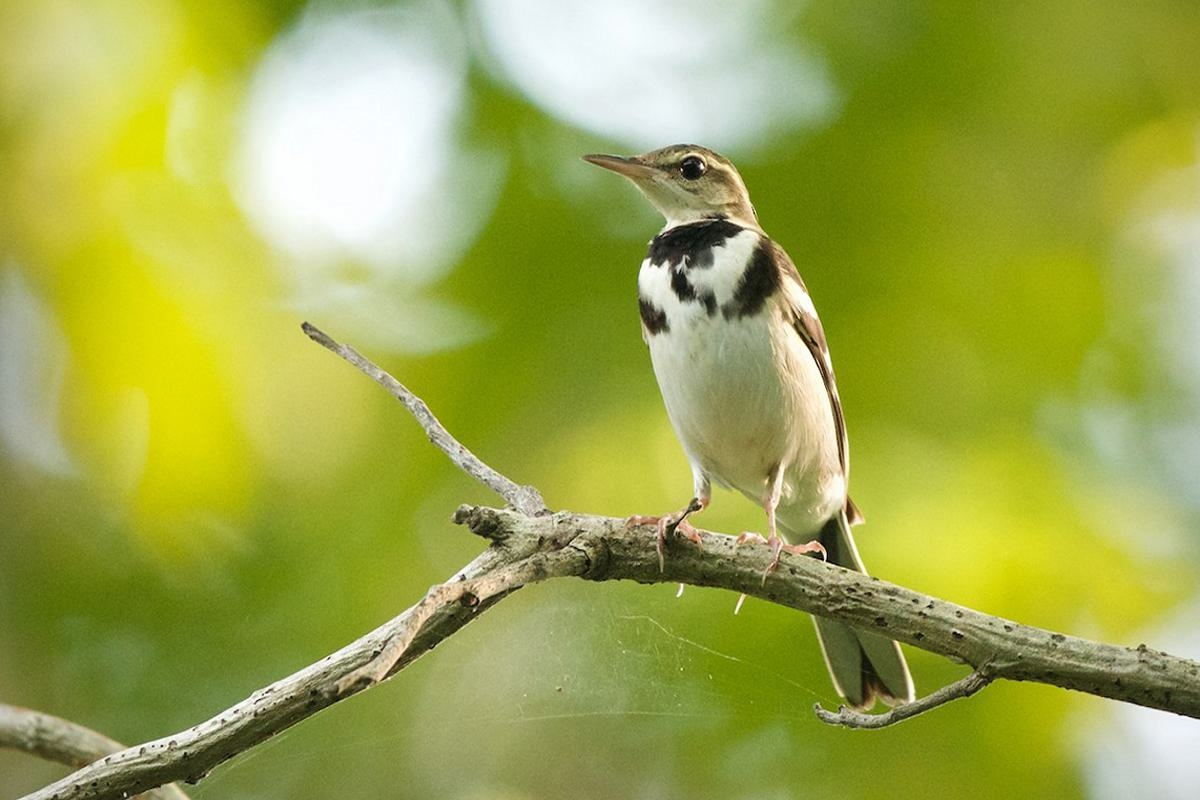wagtail: (587, 74, 907, 704)
